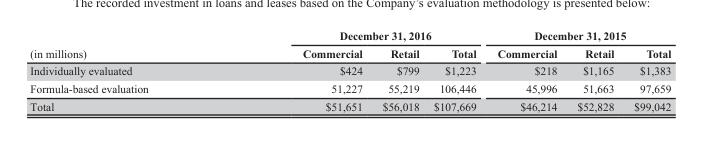table: (29, 28, 670, 112)
table column: (29, 28, 224, 112), (224, 28, 371, 112), (486, 28, 566, 112), (425, 28, 486, 112), (566, 28, 623, 112), (371, 28, 425, 112), (623, 28, 670, 112)
table column header: (29, 28, 670, 61)
table row: (29, 43, 670, 61), (29, 61, 670, 79), (29, 79, 670, 96), (29, 96, 670, 112), (29, 28, 670, 43)
table spanning cell: (29, 28, 224, 61), (224, 28, 486, 43), (486, 28, 670, 43)
